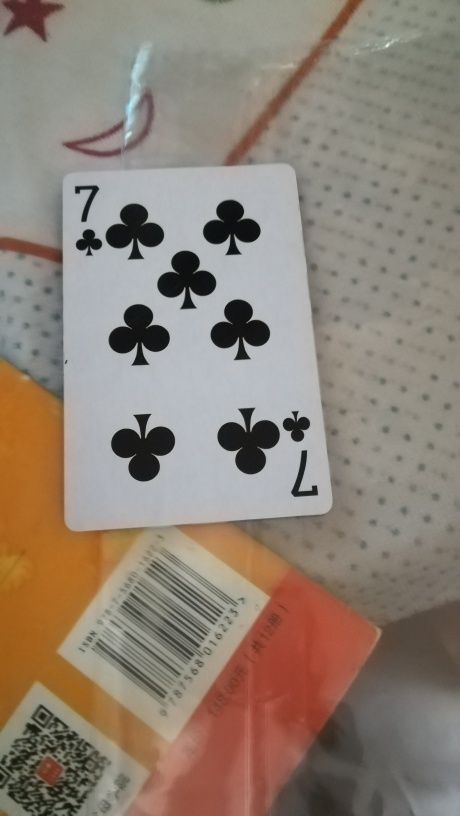mh 7: (60, 161, 335, 532)
